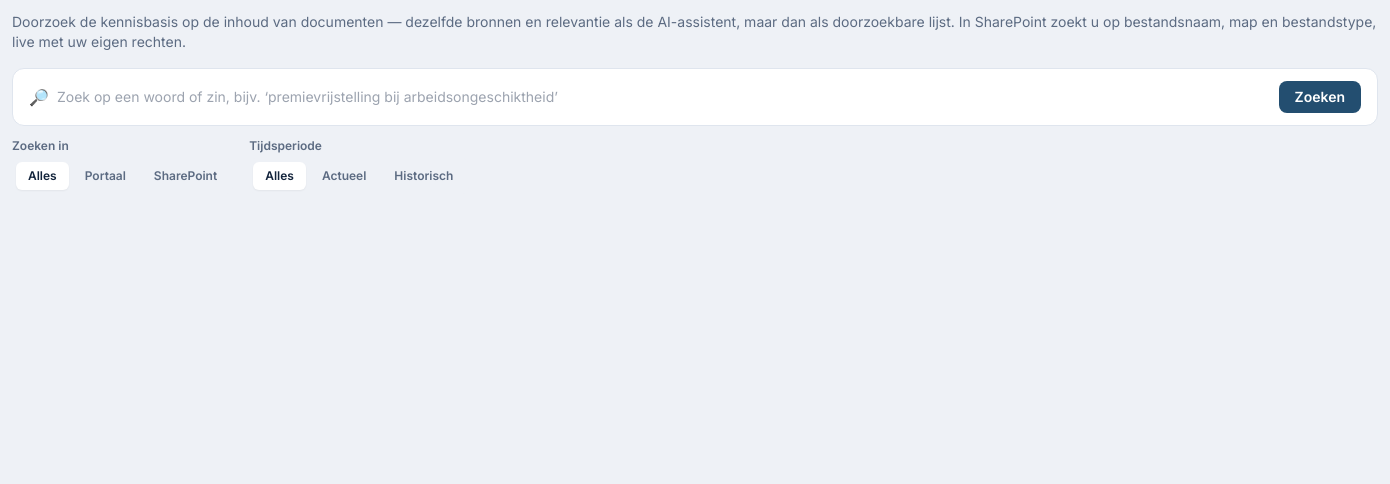
Test: ZoekenPaneel — SharePoint als zoekbron (#463) › portaalfout laat SharePoint-resultaten staan
Expected: the element named "Zoekbron" is shown, [12,158,233,194]
Type "notulen" into the field with placeholder "Zoek op een woord of zin" at point(664, 97), box [57,87,1271,107]
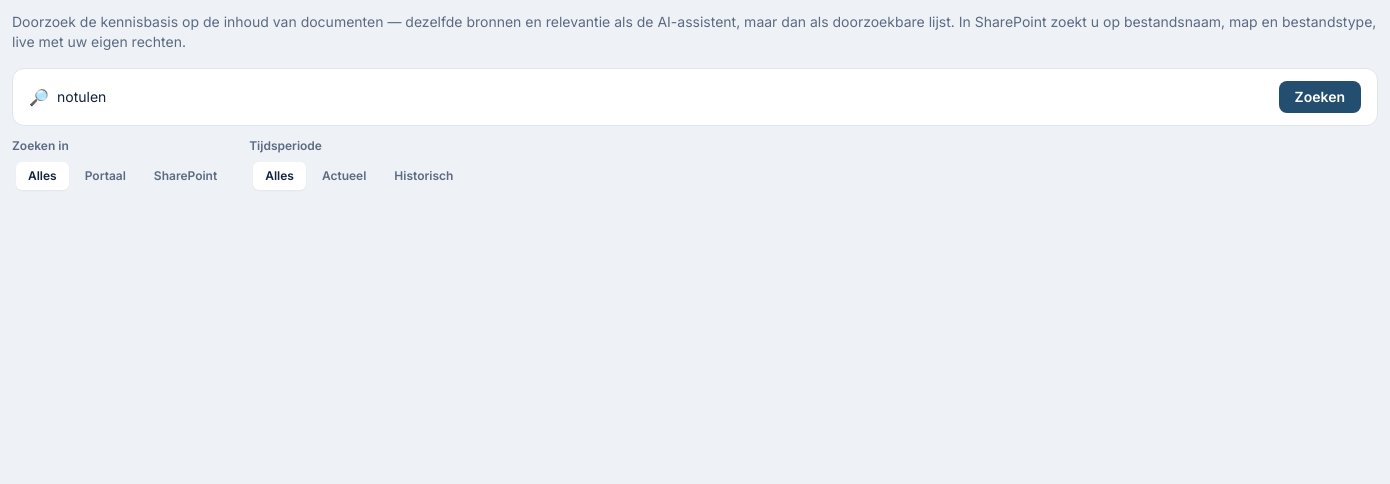
Click the button "Zoeken" at point(1320, 97), box [1279,81,1361,113]
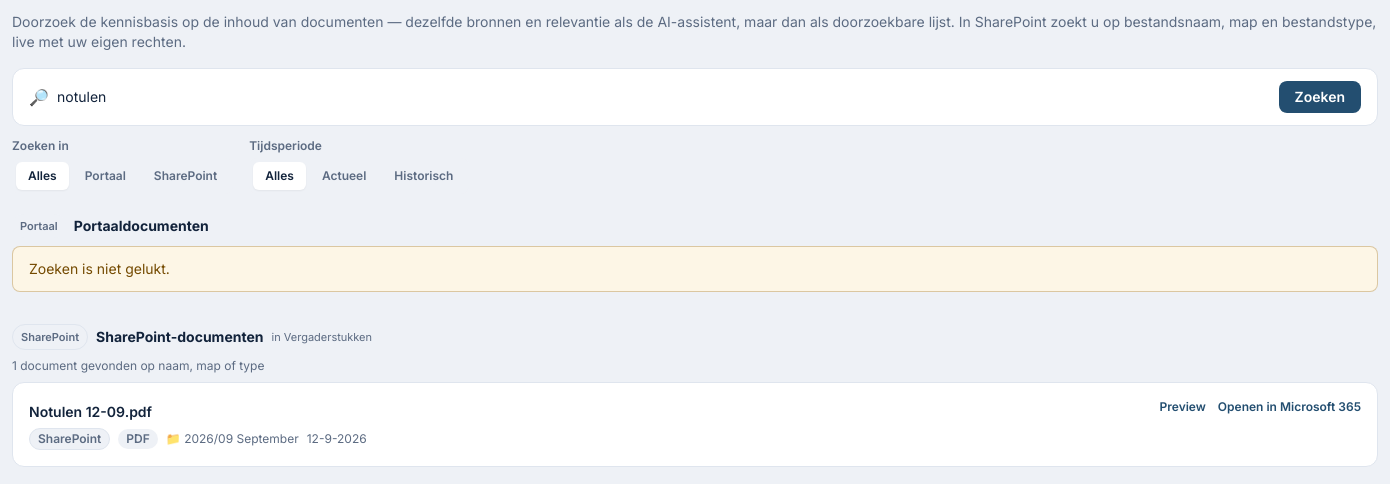
Expected: the text "Zoeken is niet gelukt." is shown, [12,246,1378,292]
Expected: the link "Notulen 12-09.pdf" is shown, [29,403,152,420]
